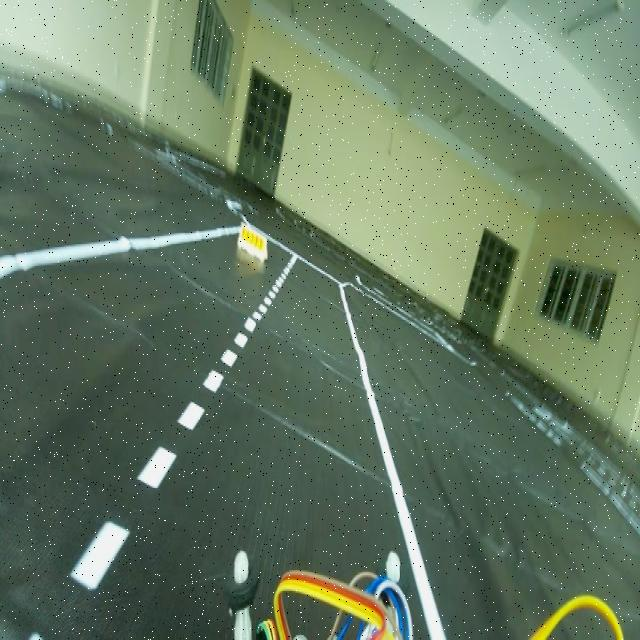roadblock: (231, 208, 269, 278)
